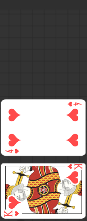4H: (3, 148, 20, 155)
